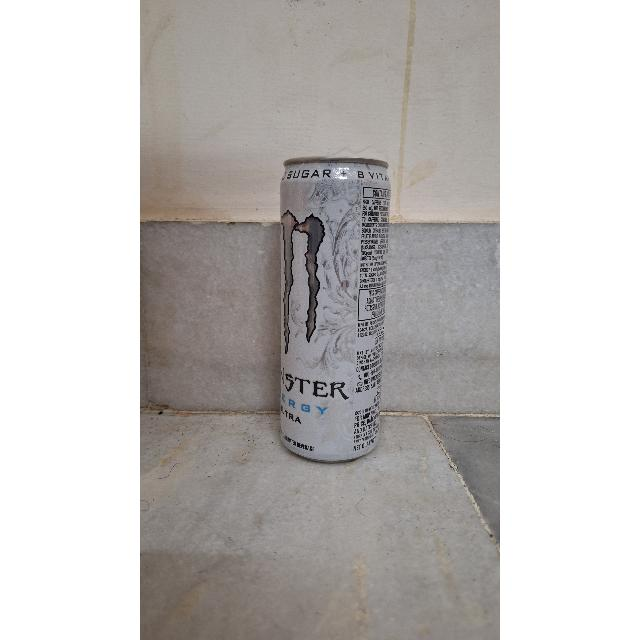White Monster: (264, 144, 396, 476)
